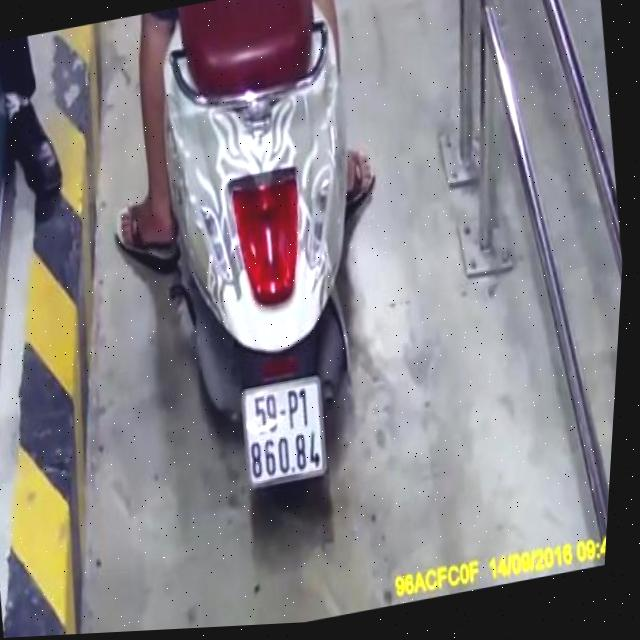motorcycle: (115, 0, 411, 545)
plate: (231, 371, 333, 492)
